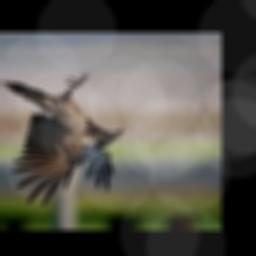Crow: (0, 75, 123, 207)
